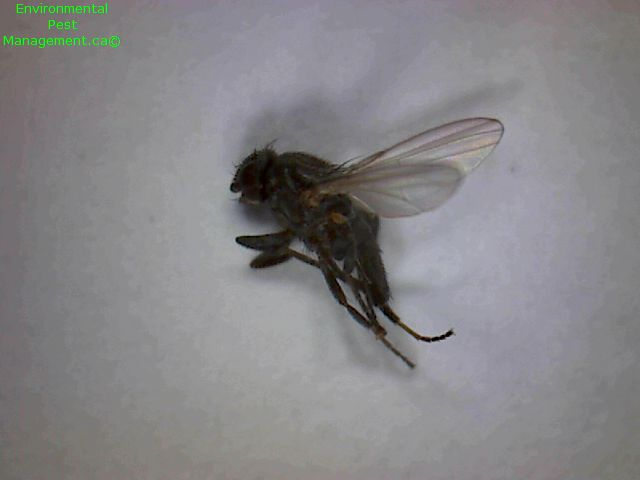phorid fly: (204, 103, 527, 380)
